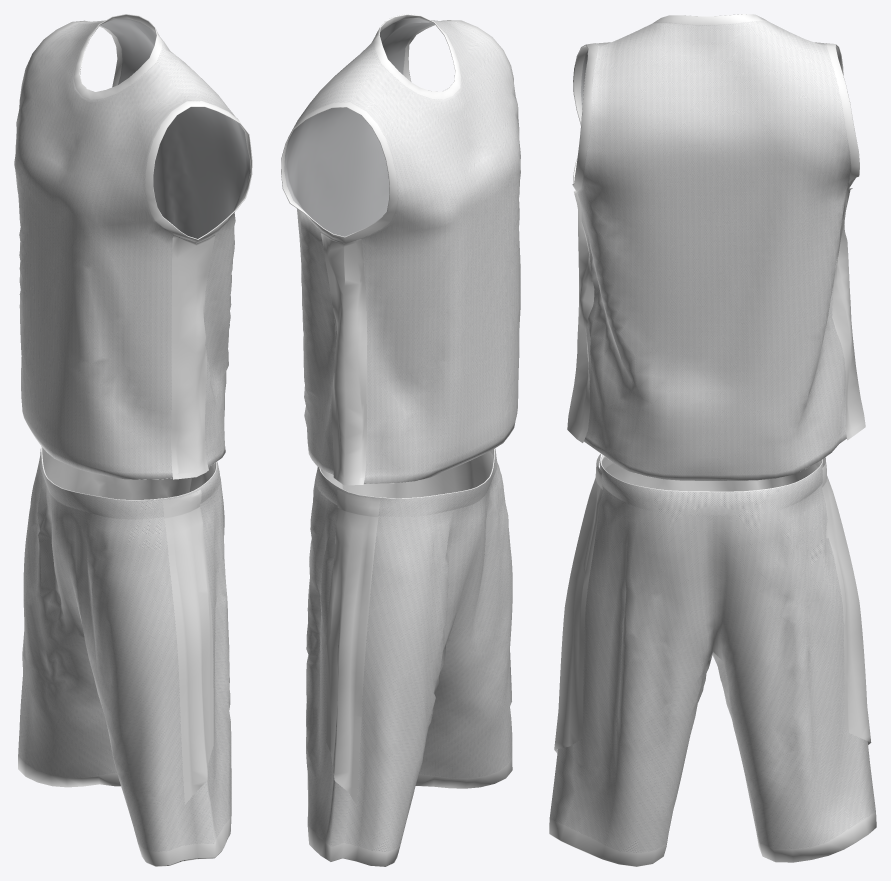
File: jersey-2.gltf
3 views of the same model, side by side, from view 1: azimuth 30°, elevation 25°; view 2: azimuth 150°, elevation 25°; view 3: azimuth 270°, elevation 25° (orthographic). The views are drawn at different scales.
Parts seen in each view (by area): view 1: <name>_Default, <name>_Pattern_1; view 2: <name>_Default, <name>_Pattern_1; view 3: <name>_Default, <name>_Pattern_1.
Part boxes in pixels (x1,y1,x2,y2): <name>_Default: (14,14,252,866); <name>_Pattern_1: (162,233,215,804); <name>_Default: (281,14,520,866); <name>_Pattern_1: (320,231,379,804); <name>_Default: (549,14,876,866); <name>_Pattern_1: (554,188,871,752).
Bounding box in the file's own units: 0.9911 × 4.66 × 1.66.
Materials: 4 (1 with a texture image).
